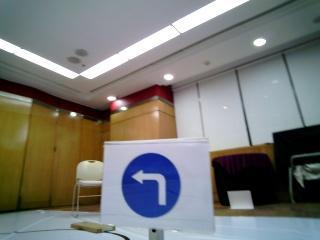left: (103, 143, 208, 223)
